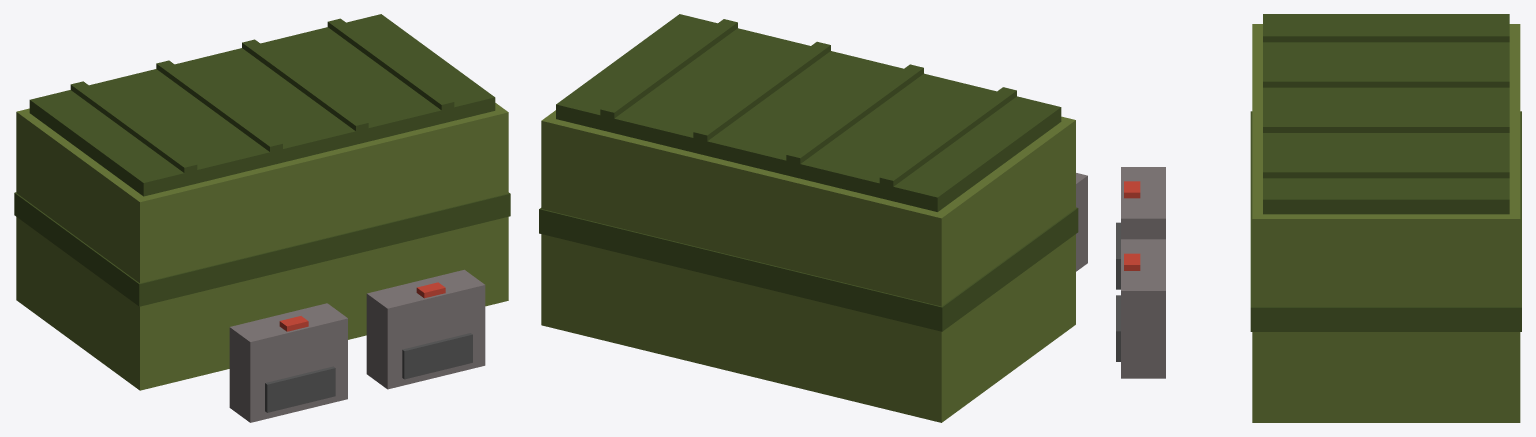
File: ce_ammo2_railp_sabot_c.obj
3 renders of one model, left to right at view 1: azimuth 30°, elevation 25°; view 2: azimuth 150°, elevation 25°; view 3: azimuth 270°, elevation 25°, orthographic. The views are drawn at different scales.
Visible parts, largest first — view 1: ce_ammo2_railp_sabot_c_0, ce_ammo2_railp_sabot_c_1, ce_ammo2_railp_sabot_c_2, ce_ammo2_railp_sabot_c_7, ce_ammo2_railp_sabot_c_10, ce_ammo2_railp_sabot_c_12, ce_ammo2_railp_sabot_c_3, ce_ammo2_railp_sabot_c_6, ce_ammo2_railp_sabot_c_4, ce_ammo2_railp_sabot_c_9, ce_ammo2_railp_sabot_c_5; view 2: ce_ammo2_railp_sabot_c_0, ce_ammo2_railp_sabot_c_1, ce_ammo2_railp_sabot_c_2, ce_ammo2_railp_sabot_c_4, ce_ammo2_railp_sabot_c_5, ce_ammo2_railp_sabot_c_6, ce_ammo2_railp_sabot_c_3, ce_ammo2_railp_sabot_c_10; view 3: ce_ammo2_railp_sabot_c_0, ce_ammo2_railp_sabot_c_1, ce_ammo2_railp_sabot_c_2, ce_ammo2_railp_sabot_c_7, ce_ammo2_railp_sabot_c_3, ce_ammo2_railp_sabot_c_6, ce_ammo2_railp_sabot_c_4, ce_ammo2_railp_sabot_c_5, ce_ammo2_railp_sabot_c_10.
Part boxes in pixels (x1,y1,x2,y2): ce_ammo2_railp_sabot_c_0: (16, 103, 508, 390); ce_ammo2_railp_sabot_c_1: (29, 14, 495, 196); ce_ammo2_railp_sabot_c_2: (14, 192, 510, 306); ce_ammo2_railp_sabot_c_7: (366, 269, 485, 389); ce_ammo2_railp_sabot_c_10: (229, 303, 347, 422); ce_ammo2_railp_sabot_c_12: (265, 366, 335, 412); ce_ammo2_railp_sabot_c_3: (70, 81, 197, 172); ce_ammo2_railp_sabot_c_6: (327, 18, 454, 110); ce_ammo2_railp_sabot_c_4: (156, 60, 282, 152); ce_ammo2_railp_sabot_c_9: (402, 333, 472, 379); ce_ammo2_railp_sabot_c_5: (242, 39, 368, 131); ce_ammo2_railp_sabot_c_0: (541, 110, 1075, 422); ce_ammo2_railp_sabot_c_1: (556, 14, 1061, 211); ce_ammo2_railp_sabot_c_2: (539, 207, 1078, 331); ce_ammo2_railp_sabot_c_4: (786, 64, 923, 163); ce_ammo2_railp_sabot_c_5: (693, 41, 830, 141); ce_ammo2_railp_sabot_c_6: (600, 19, 737, 118); ce_ammo2_railp_sabot_c_3: (879, 87, 1016, 186); ce_ammo2_railp_sabot_c_10: (1076, 173, 1087, 271); ce_ammo2_railp_sabot_c_0: (1252, 24, 1520, 422); ce_ammo2_railp_sabot_c_1: (1263, 14, 1509, 214); ce_ammo2_railp_sabot_c_2: (1250, 111, 1521, 331); ce_ammo2_railp_sabot_c_7: (1121, 239, 1165, 378); ce_ammo2_railp_sabot_c_3: (1263, 29, 1509, 42); ce_ammo2_railp_sabot_c_6: (1263, 165, 1509, 178); ce_ammo2_railp_sabot_c_4: (1263, 75, 1509, 87); ce_ammo2_railp_sabot_c_5: (1263, 120, 1509, 132); ce_ammo2_railp_sabot_c_10: (1121, 167, 1165, 239).
Size of the model in its own units: 0.866 by 0.462 by 0.757.
